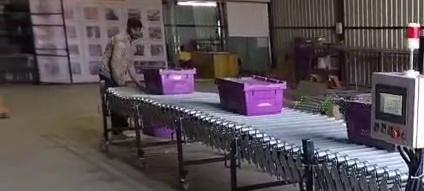box: (337, 99, 394, 150), (339, 100, 394, 150), (216, 76, 285, 115), (142, 68, 195, 94)
